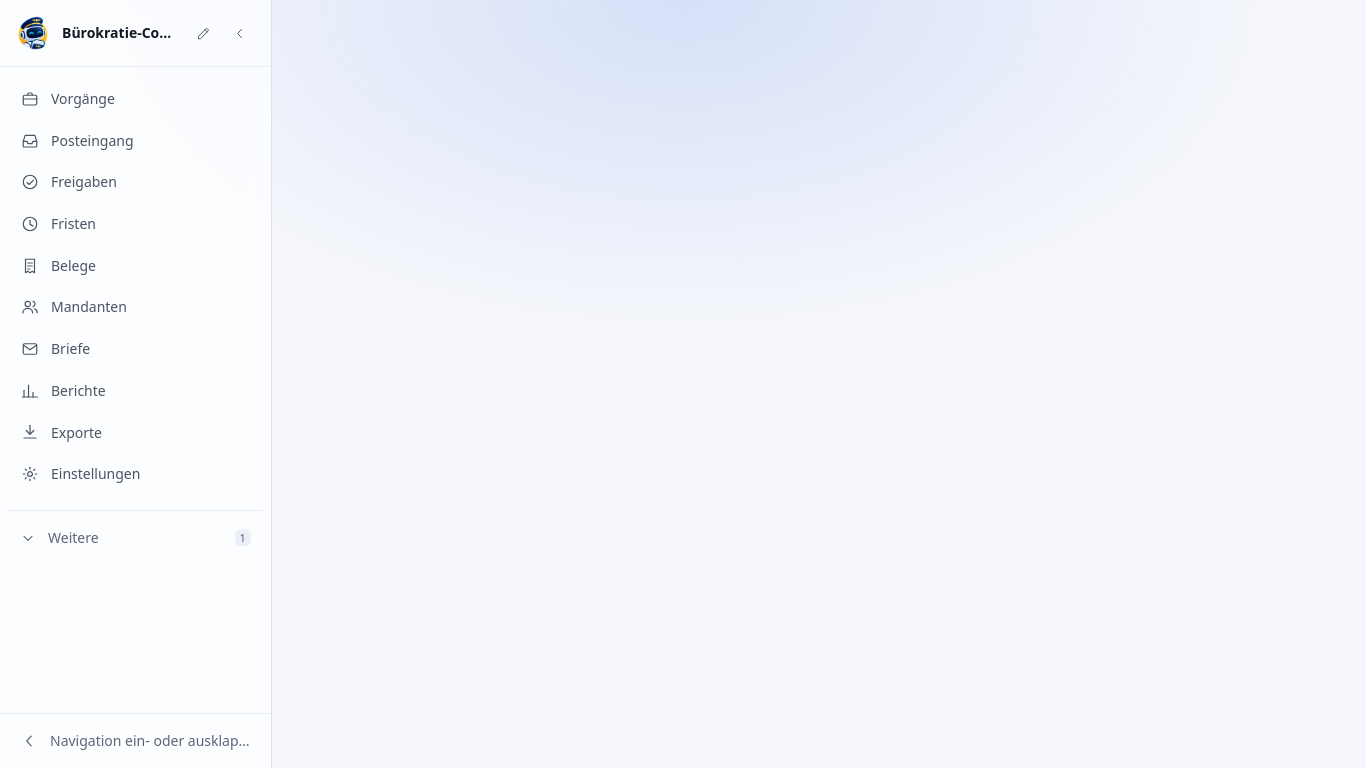
Test: personal sidebar › resets to the standard menu after an explicit confirmation
Click the button named "Anpassen".
click(203, 33)  # box [187,17,219,49]
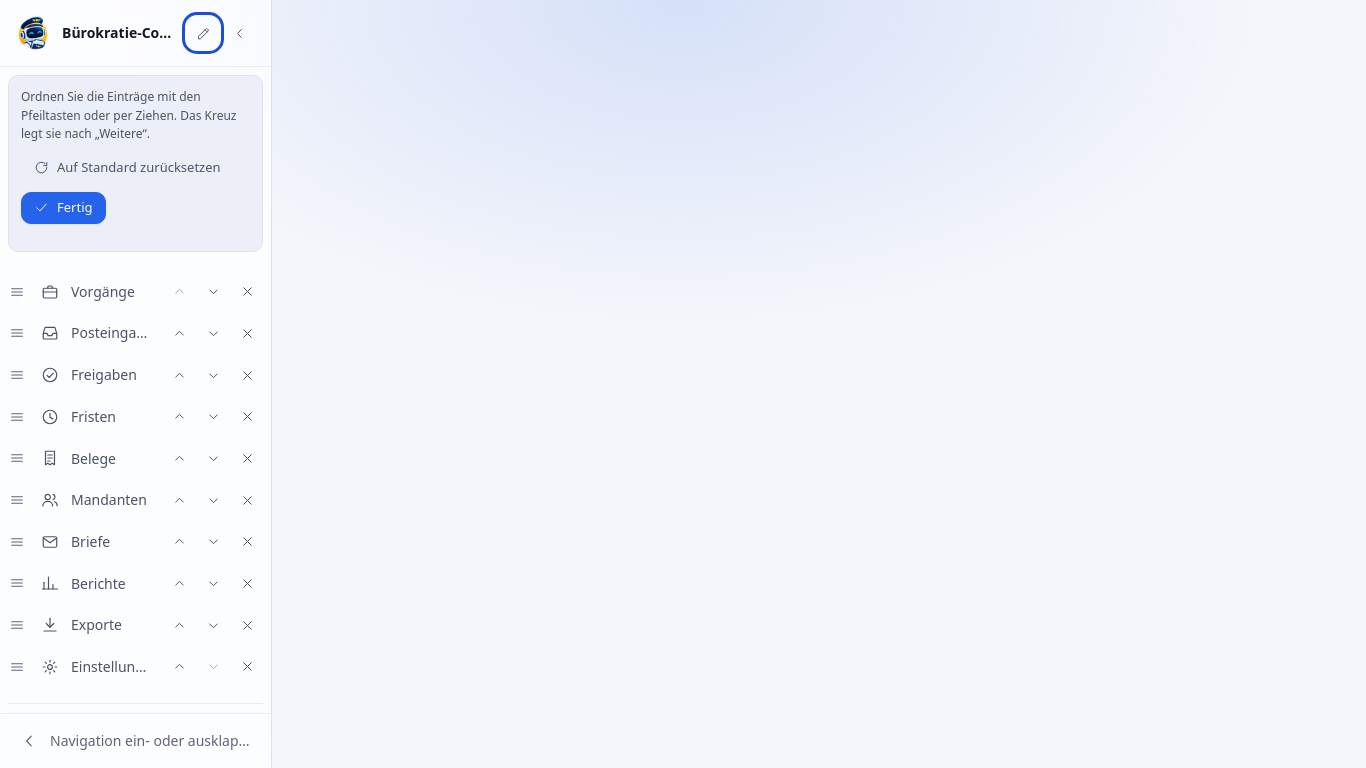
Click the button "Auf Standard zurücksetzen".
click(127, 168)  # box [21,152,234,184]
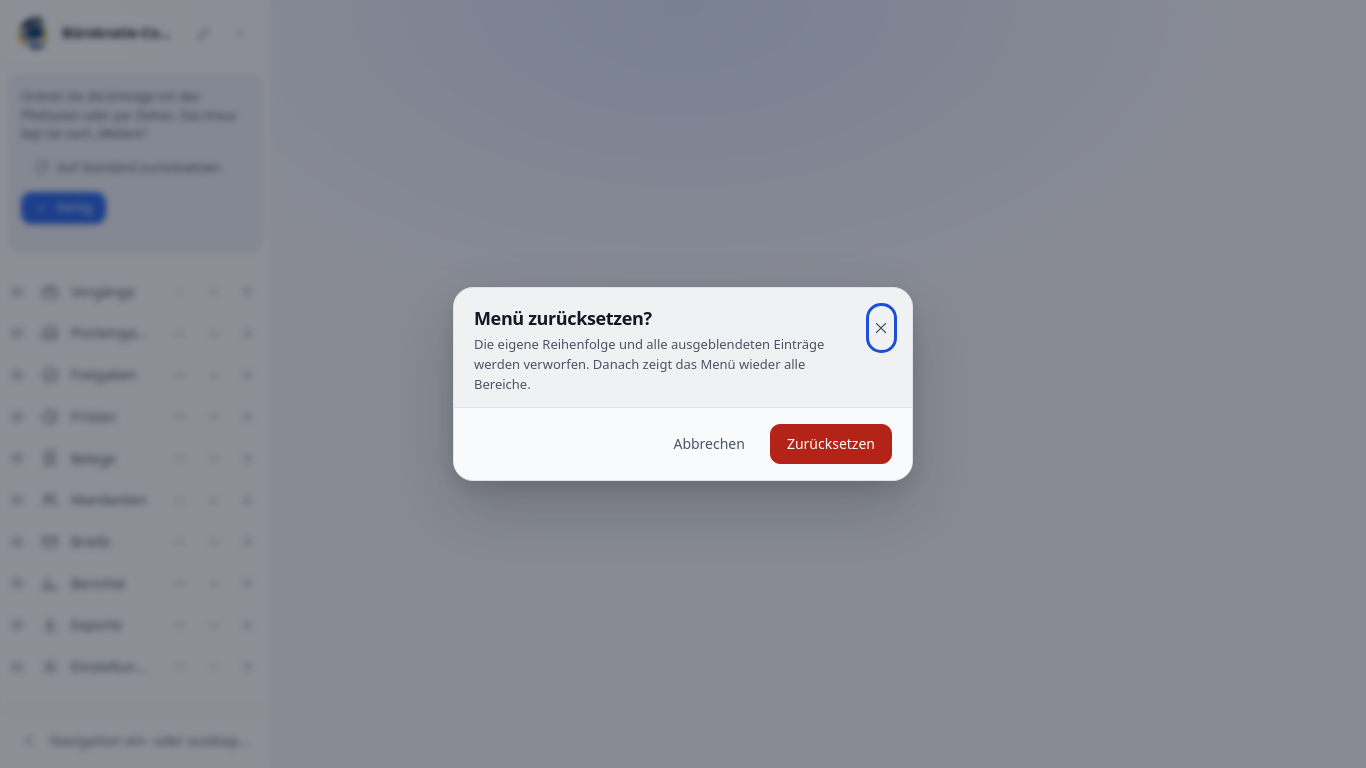
Click the button "Zurücksetzen".
click(831, 444)  # box [770,424,892,464]
(page scrolled)
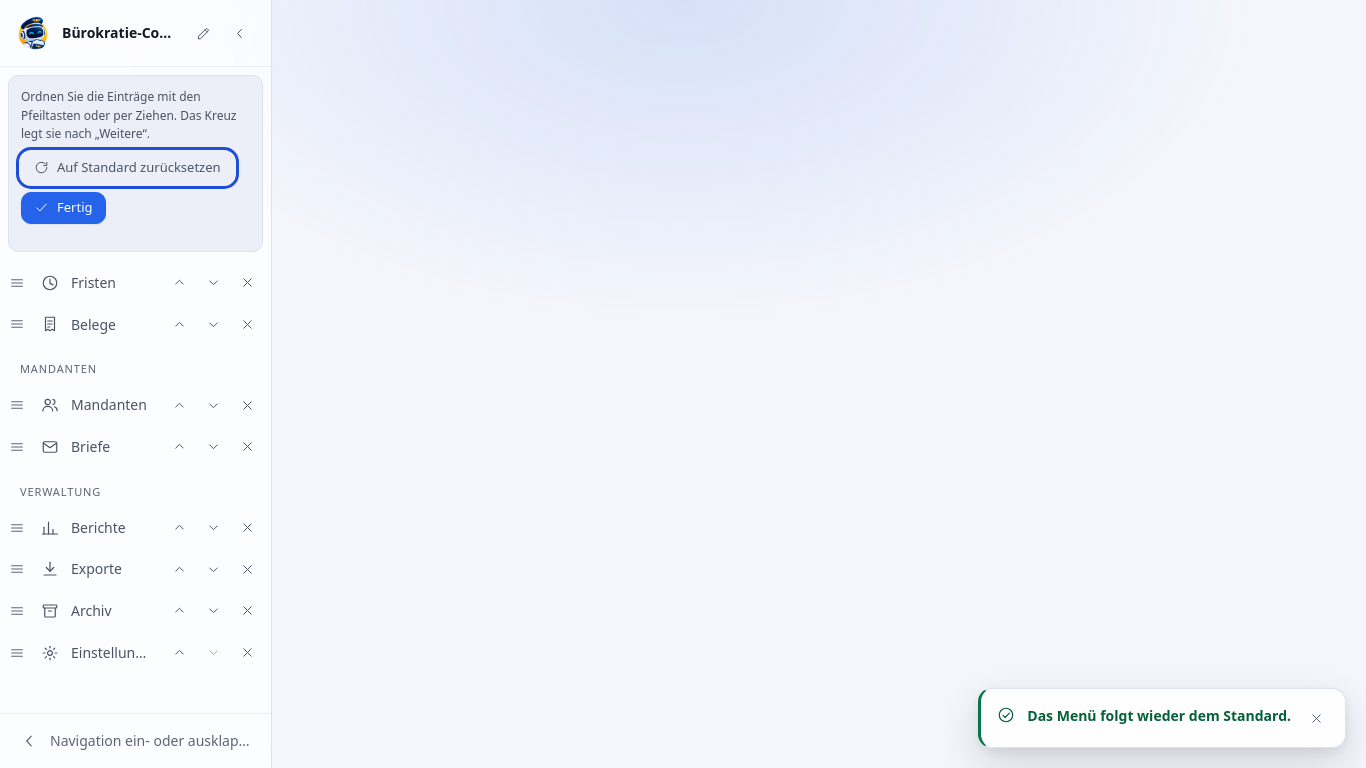
Expected: the button "Weitere" is not shown
Now the link "Archiv" is shown, box [41,601,112,620]
